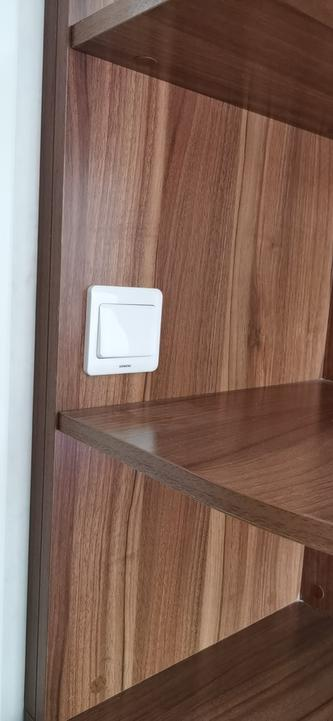switch: (99, 295, 163, 363)
